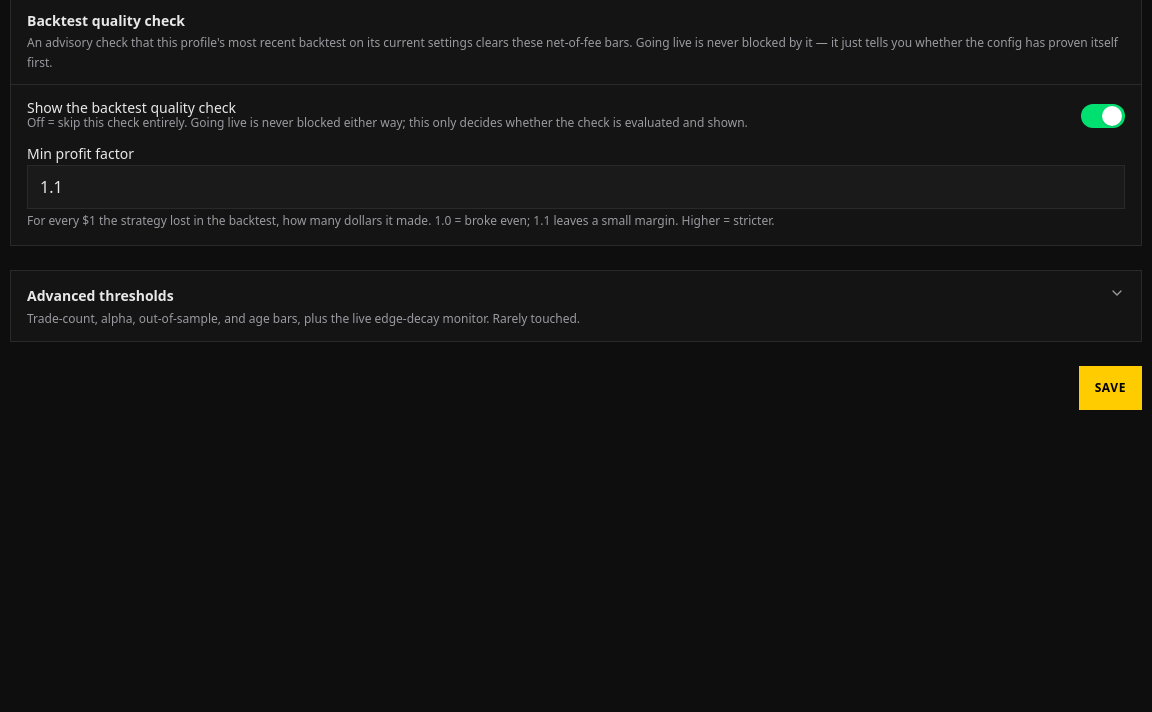
<EnablementPolicyPanel> › shows the essentials but keeps advanced thresholds collapsed until expanded
Expected: the number field labelled "Min profit factor" is shown, [27,165,1125,209]
Click the heading with test id "gate-advanced-toggle" at (100, 296), box [11,271,1141,340]
(page scrolled)
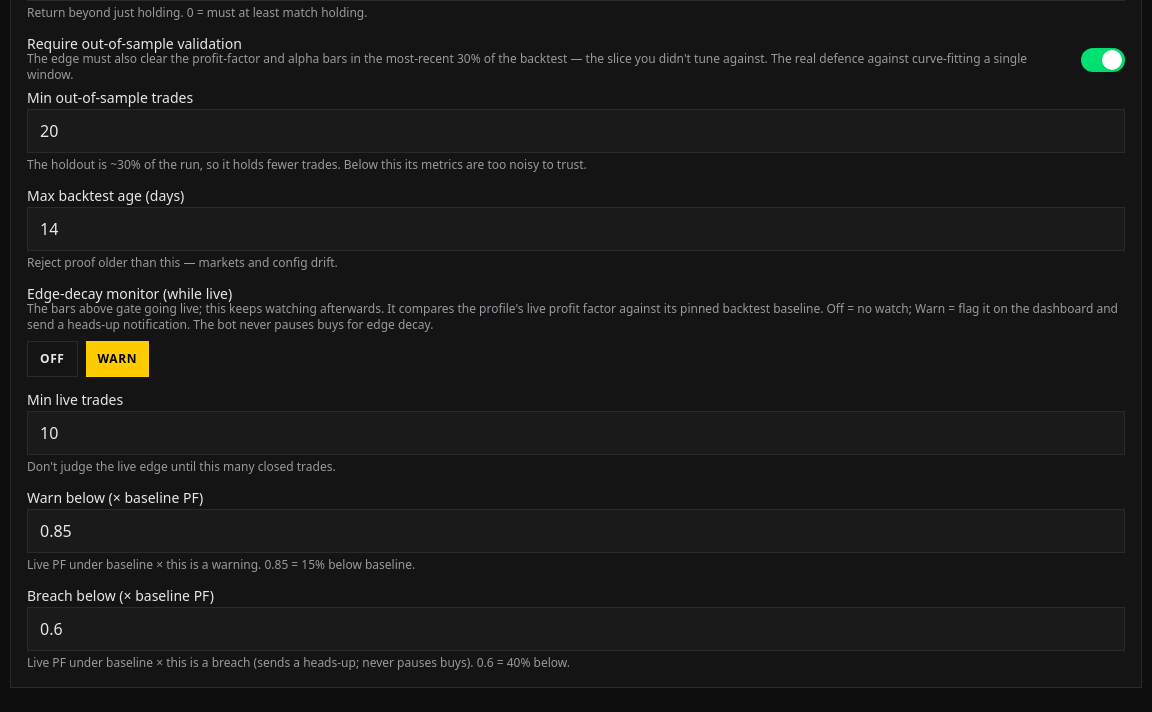
Now the button with test id "monitor-mode-warn" is shown, box [86,340,149,376]
